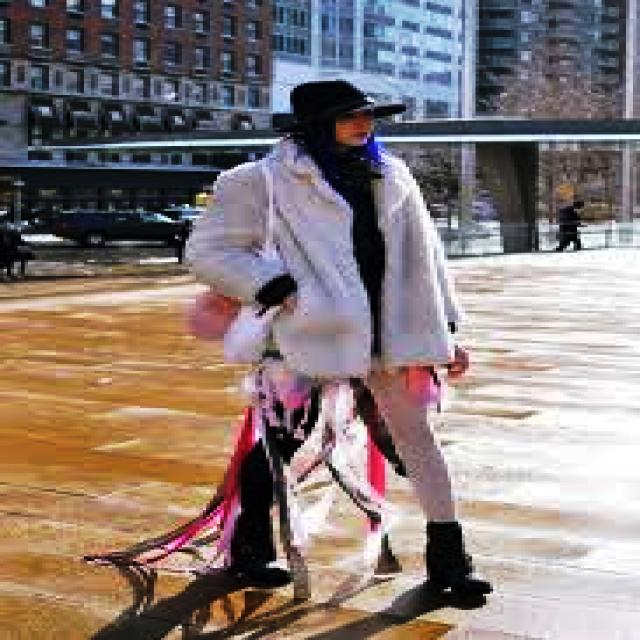TOPI: (259, 72, 409, 134)
